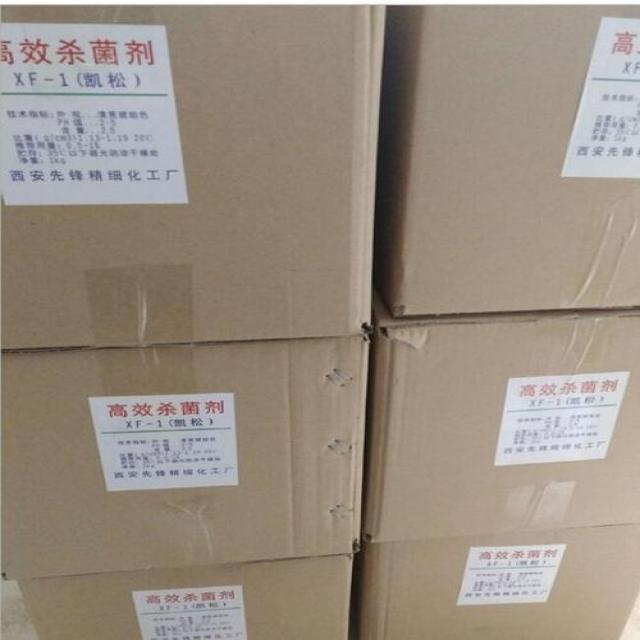box: (0, 5, 388, 349), (0, 334, 371, 581), (375, 3, 640, 317), (360, 288, 640, 548), (356, 524, 640, 640), (18, 553, 356, 640)
